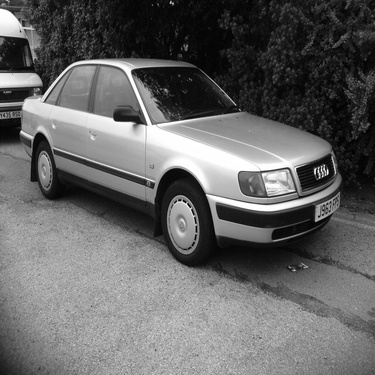car: (14, 46, 345, 272)
